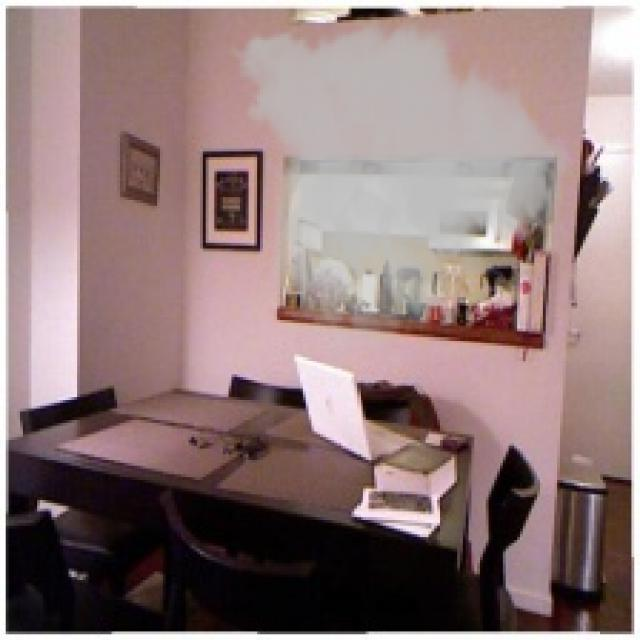Smoke: (220, 8, 583, 354)
